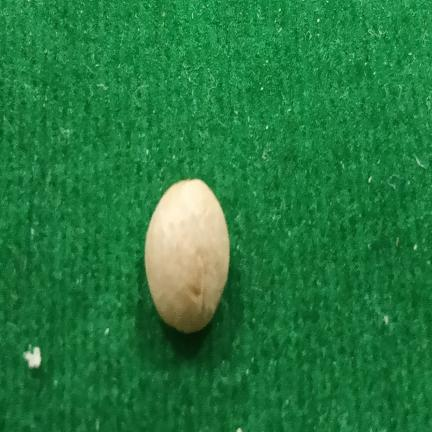cut: (145, 179, 230, 333)
